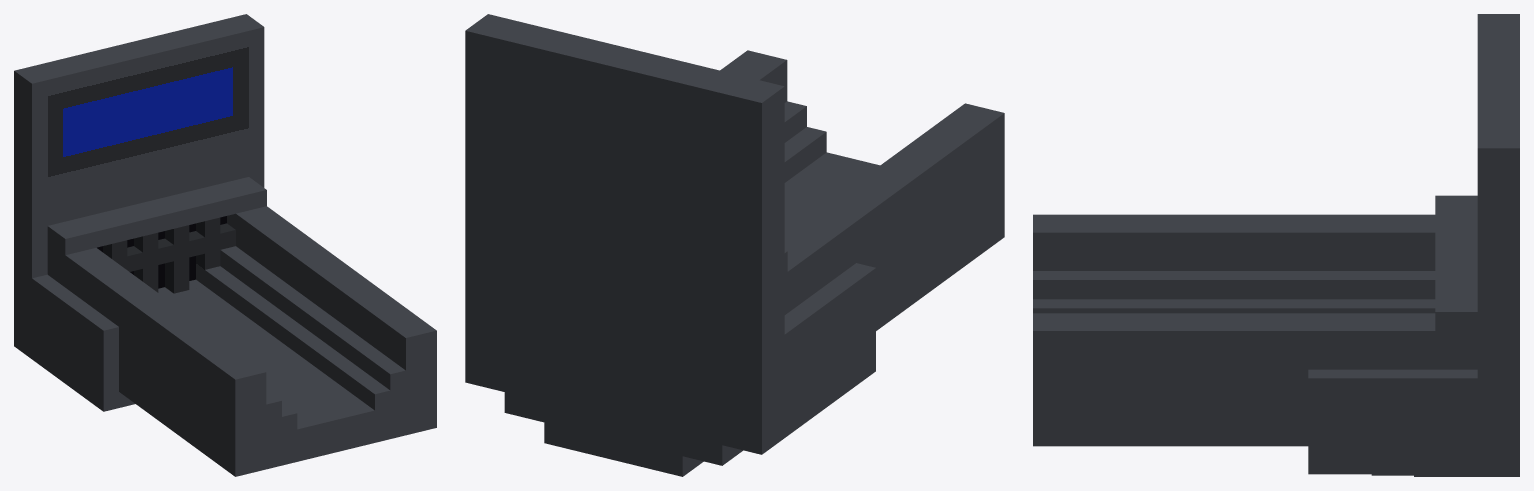
File: kran_wodospad.dae
3 views of the same model, side by side, from view 1: azimuth 30°, elevation 25°; view 2: azimuth 150°, elevation 25°; view 3: azimuth 270°, elevation 25° (orthographic). The views are drawn at different scales.
Visible parts, largest first — view 1: Content; view 2: Content; view 3: Content.
Boxes of the visible parts, bbox=[...] form: Content: bbox=[14, 14, 436, 476]; Content: bbox=[465, 14, 1004, 476]; Content: bbox=[1033, 14, 1519, 476].
Bounding box in the file's own units: 15 × 19 × 23.
Materials: 1 (1 with a texture image).
